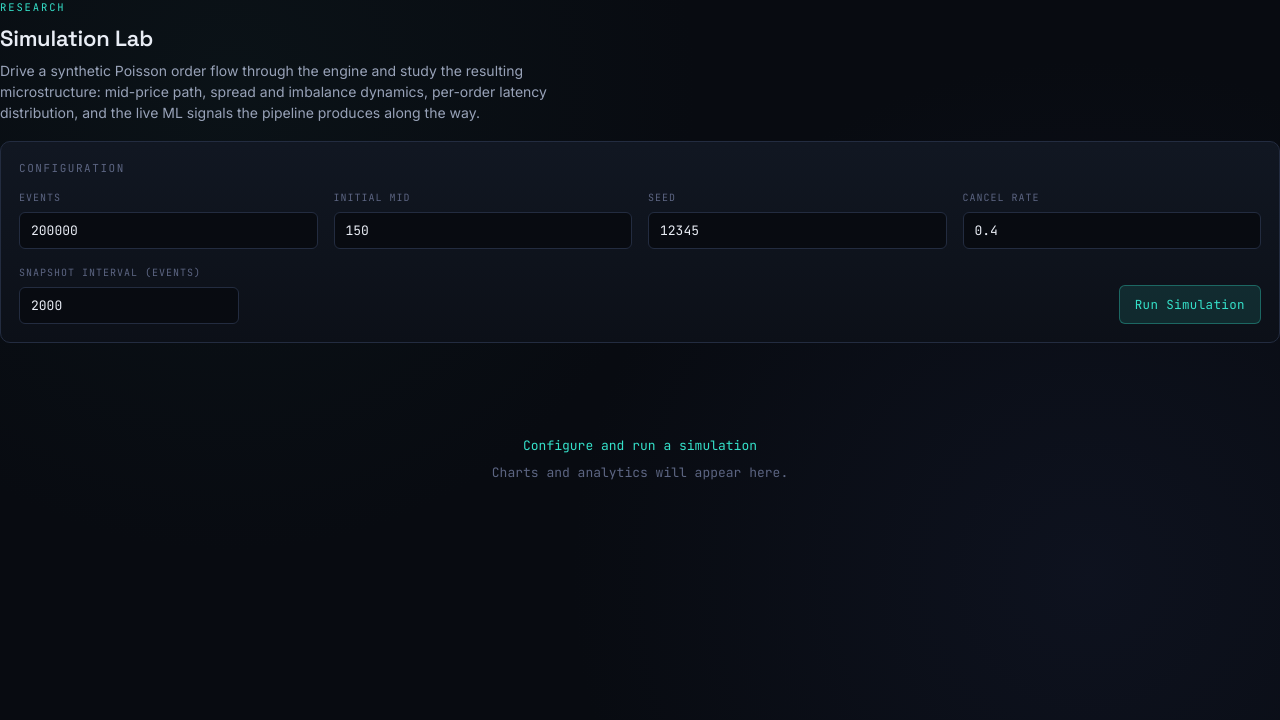
Test: SimulationPanel › shows the latency percentiles and engine stats
Step 1. Click the button "Run Simulation" → (1190, 305), box [1119, 285, 1261, 324]
(page scrolled)
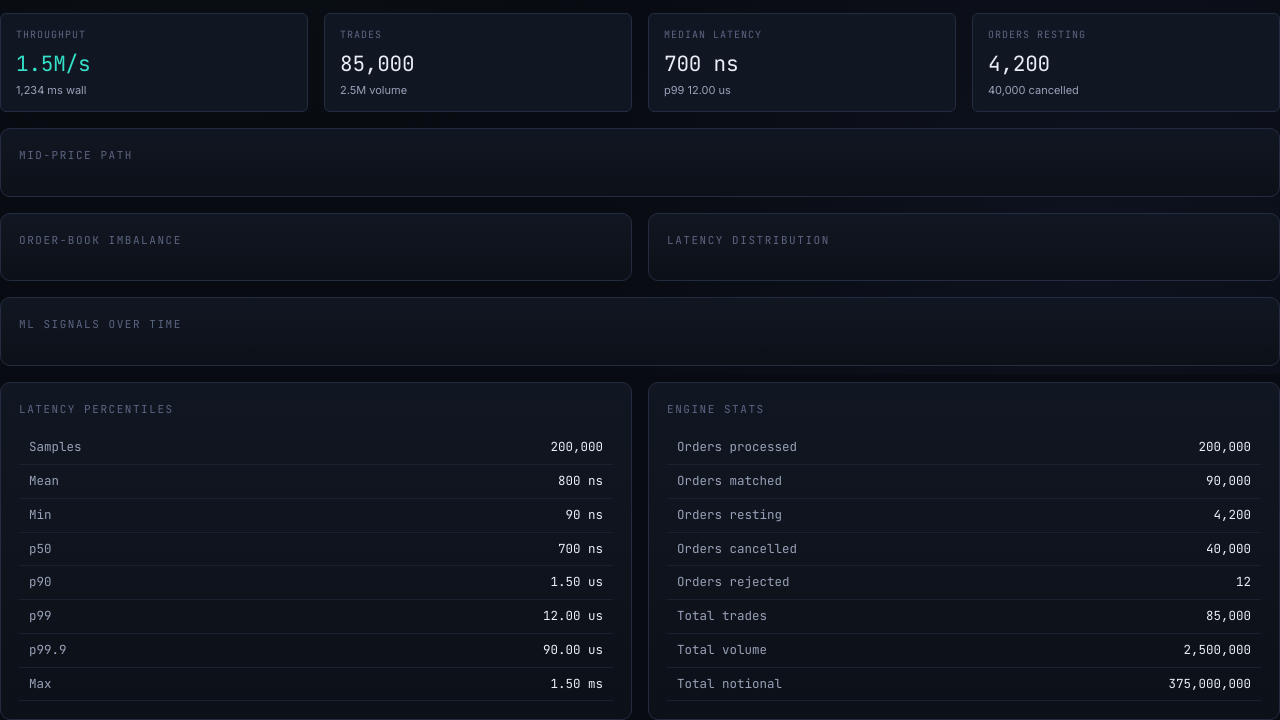
Expected: the cell "90.00 us" is shown, [301, 633, 613, 667]
Expected: the cell "1.50 ms" is shown, [301, 667, 613, 701]
Expected: the cell "12" is shown, [1010, 566, 1261, 600]
